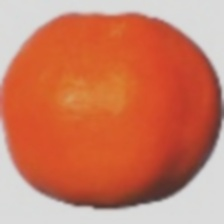tangerine: (13, 25, 214, 201)
